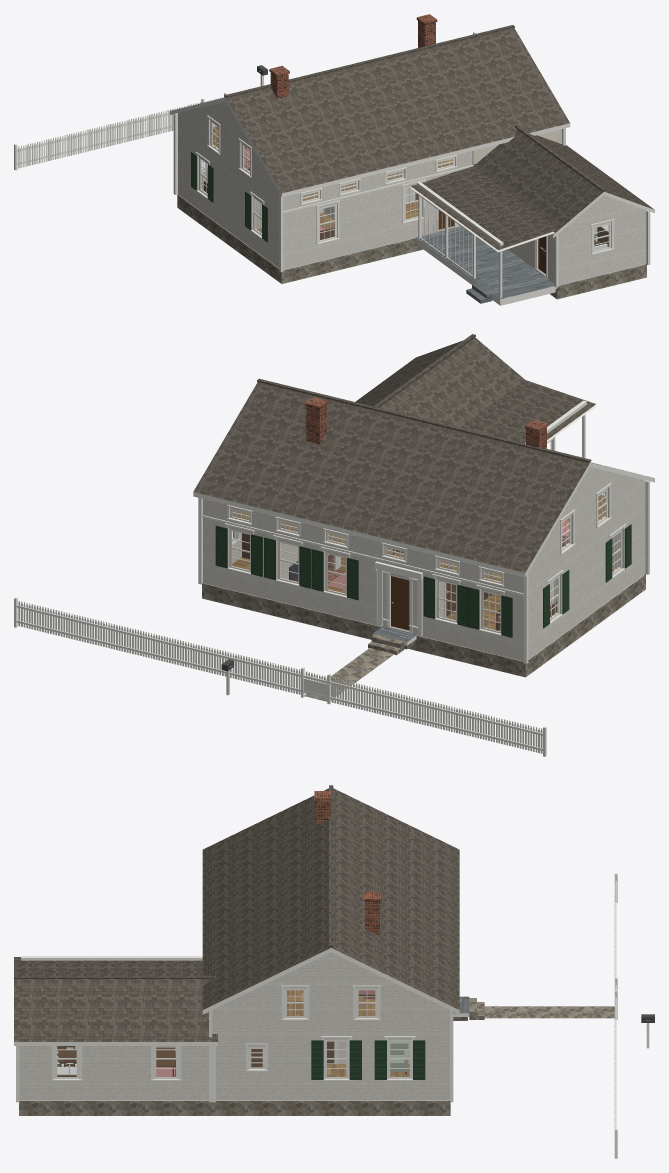
The model's file is P-HOUSE1.glb.
3 renders of one model, top to bottom at view 1: azimuth 30°, elevation 25°; view 2: azimuth 150°, elevation 25°; view 3: azimuth 270°, elevation 25°, orthographic. The views are drawn at different scales.
Visible parts, largest first — view 1: roof_main-col, shell-col, roof_wing-col, porch_0-col, porch_0_roof-col, windows, front_fence-col, trim, glass, chimneys-col, floors-col, partitions-col; view 2: roof_main-col, shell-col, front_fence-col, trim, roof_wing-col, windows, porch_0_roof-col, glass, floors-col, chimneys-col, walk-col, door_front__n (+3 smaller); view 3: roof_main-col, shell-col, roof_wing-col, windows, porch_0_roof-col, glass, trim, walk-col, floors-col, chimneys-col, front_fence-col, porch_0-col (+3 smaller).
Part boxes in pixels (x1,y1,x2,y2): roof_main-col: [169, 25, 570, 197]; shell-col: [173, 101, 650, 299]; roof_wing-col: [472, 124, 654, 237]; porch_0-col: [415, 182, 556, 305]; porch_0_roof-col: [410, 166, 559, 252]; windows: [195, 115, 614, 254]; front_fence-col: [14, 32, 476, 170]; trim: [177, 136, 561, 242]; glass: [201, 123, 608, 249]; chimneys-col: [269, 14, 437, 98]; floors-col: [179, 126, 644, 285]; partitions-col: [255, 130, 597, 247]; roof_main-col: [193, 378, 654, 577]; shell-col: [198, 467, 649, 677]; front_fence-col: [14, 597, 546, 756]; trim: [202, 515, 631, 637]; roof_wing-col: [355, 334, 524, 427]; windows: [225, 483, 626, 636]; porch_0_roof-col: [460, 380, 595, 443]; glass: [232, 492, 619, 631]; floors-col: [204, 496, 643, 661]; chimneys-col: [304, 397, 548, 448]; walk-col: [304, 648, 394, 701]; door_front__n: [391, 576, 409, 630]; roof_main-col: [202, 785, 459, 1014]; shell-col: [16, 952, 453, 1115]; roof_wing-col: [14, 975, 217, 1045]; windows: [52, 985, 415, 1080]; porch_0_roof-col: [14, 957, 202, 975]; glass: [58, 991, 408, 1076]; trim: [311, 1040, 425, 1079]; walk-col: [484, 1006, 614, 1018]; floors-col: [20, 990, 449, 1100]; chimneys-col: [314, 791, 380, 999]; front_fence-col: [614, 873, 617, 1158]; porch_0-col: [21, 956, 202, 960].
Size of what is drawn, in the model's own units: 22.09 by 7.65 by 23.3.
27 materials, 14 textured.
